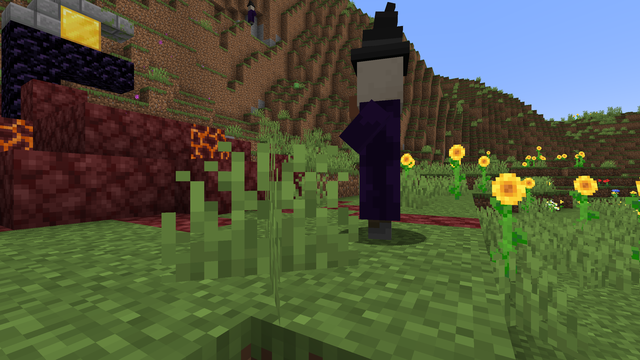creepers: (376, 15, 380, 27)
slimes: (293, 82, 299, 87)
sorcieres: (345, 42, 413, 242), (246, 3, 254, 26)
